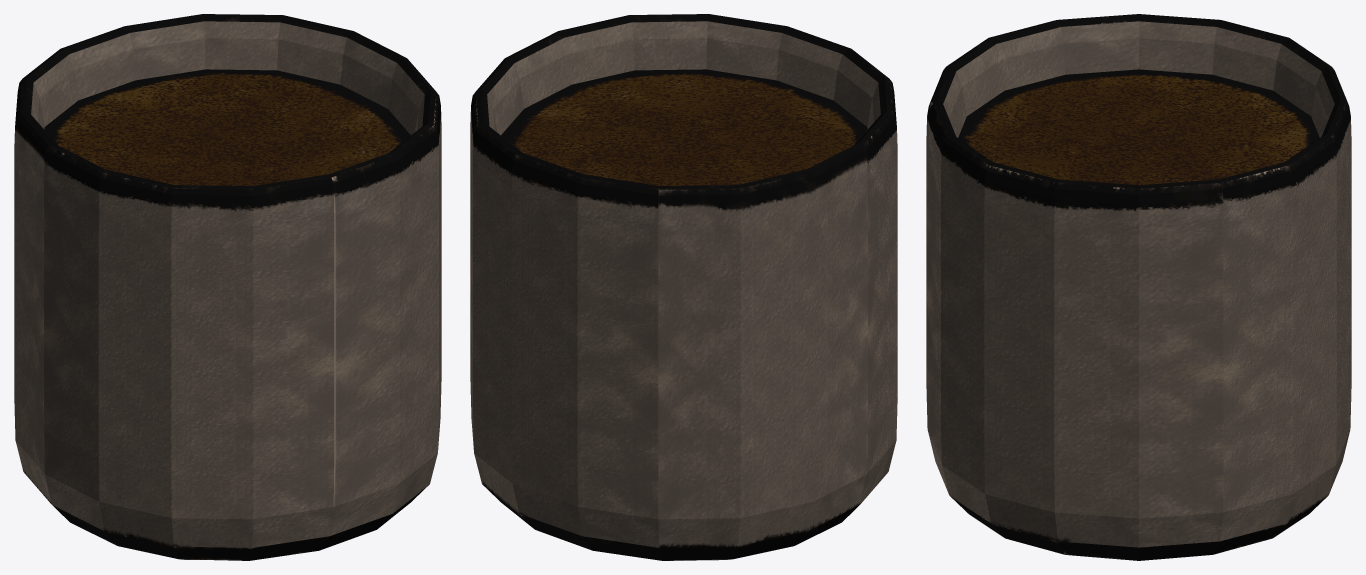
File: Vaso.fbx
The picture shows the model from 3 angles, left to right: view 1: azimuth 30°, elevation 25°; view 2: azimuth 150°, elevation 25°; view 3: azimuth 270°, elevation 25°; orthographic projection.
Visible parts, largest first — view 1: VasePot; view 2: VasePot; view 3: VasePot.
Boxes of the visible parts, x1,y1,x2,y2 form: VasePot: [14, 14, 441, 560]; VasePot: [470, 14, 897, 560]; VasePot: [926, 14, 1351, 560].
Size of the model in its own units: 20.42 by 21.72 by 20.42.
1 material, 1 textured.
